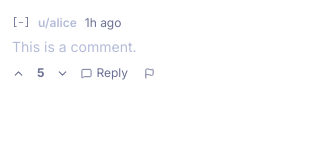
CommentNode collapse › collapses body when toggle is clicked
Step 1. Click the button named "collapse" → coordinates (21, 23), box [12,18,30,28]
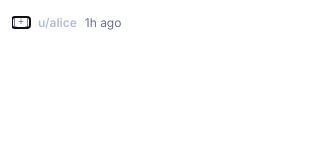
Expected: the text "This is a comment." is gone
